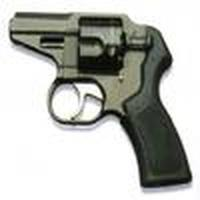gun: (9, 6, 196, 193)
